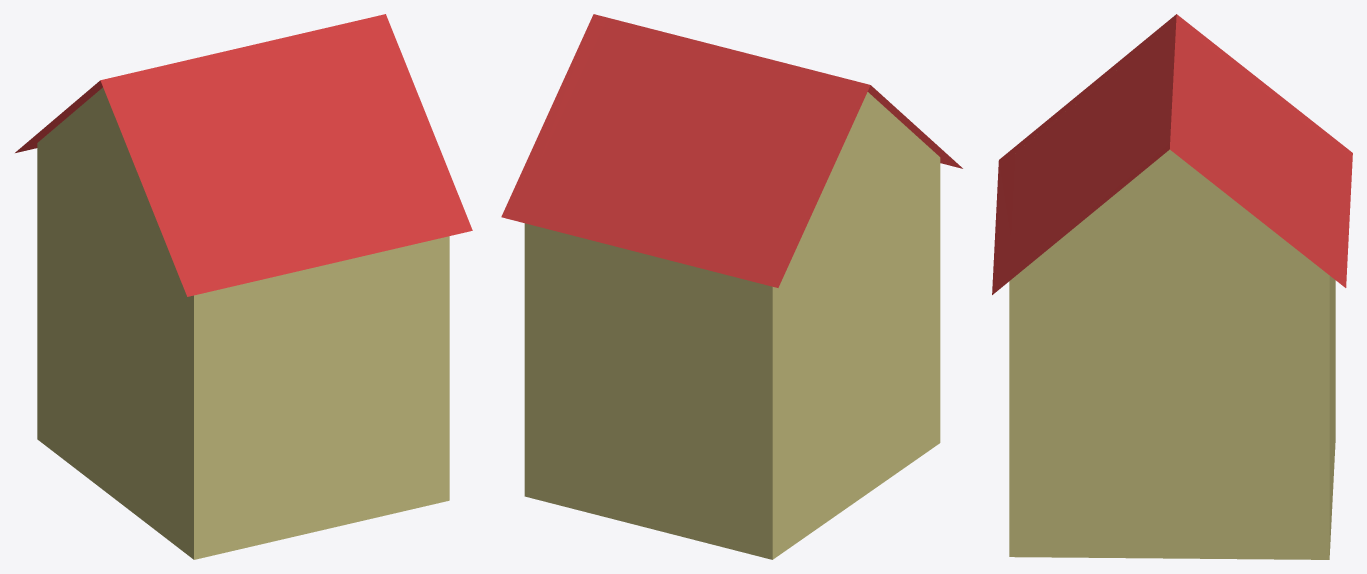
The picture shows the model from 3 angles, left to right: view 1: azimuth 30°, elevation 25°; view 2: azimuth 150°, elevation 25°; view 3: azimuth 270°, elevation 25°; orthographic projection.
Bounding box in the file's own units: 9.7 × 10.67 × 13.57.
